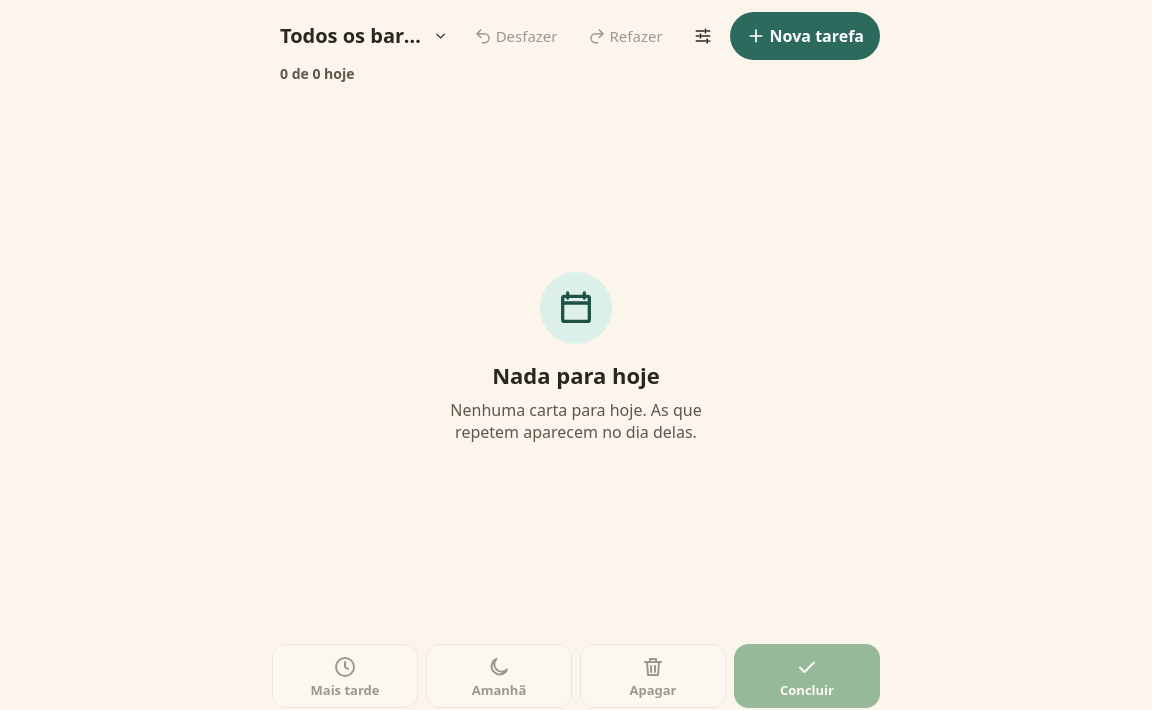
Test case: Settings > Appearance › starts from the saved theme
Click the button named "Configurações": click(703, 36) [680, 12, 726, 60]
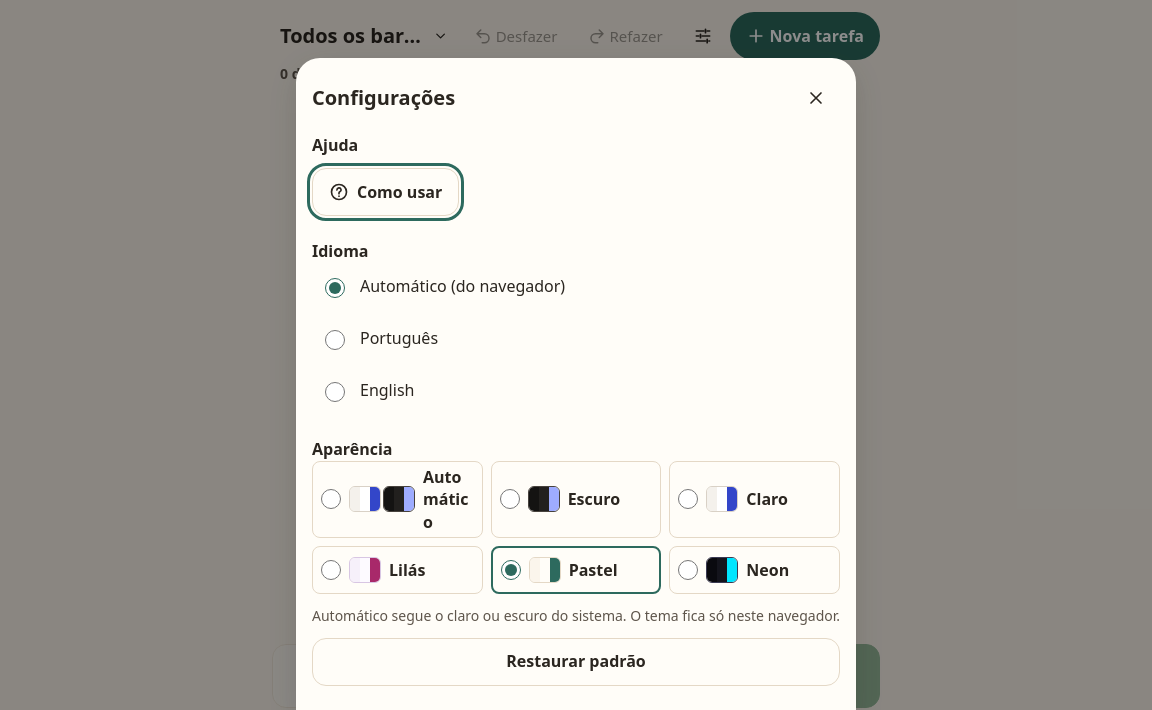
Check: the radio button labelled "Pastel" is checked, box [501, 560, 521, 580]
